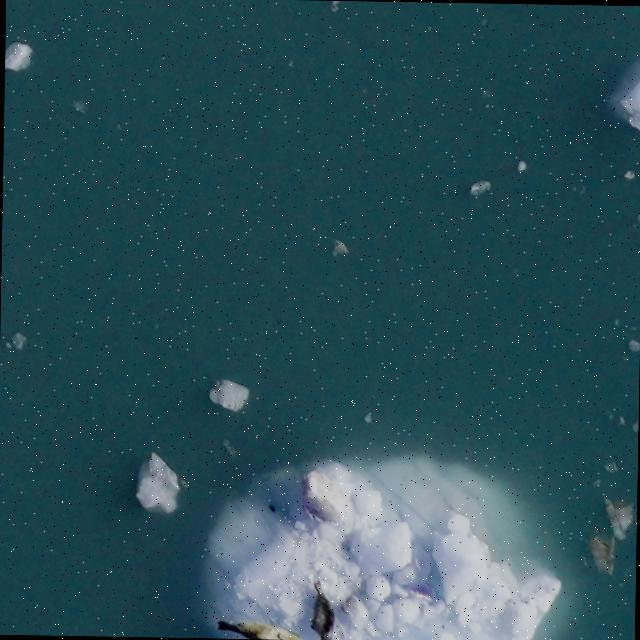seal: (214, 617, 318, 638), (310, 575, 338, 640)
